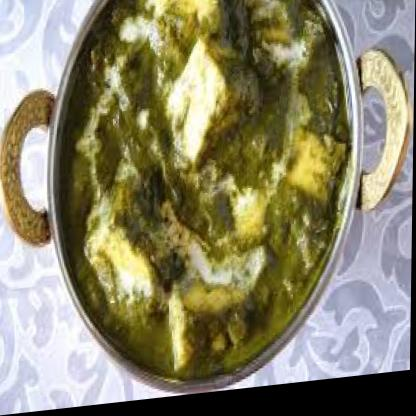palak_paneer: (57, 0, 354, 395)
